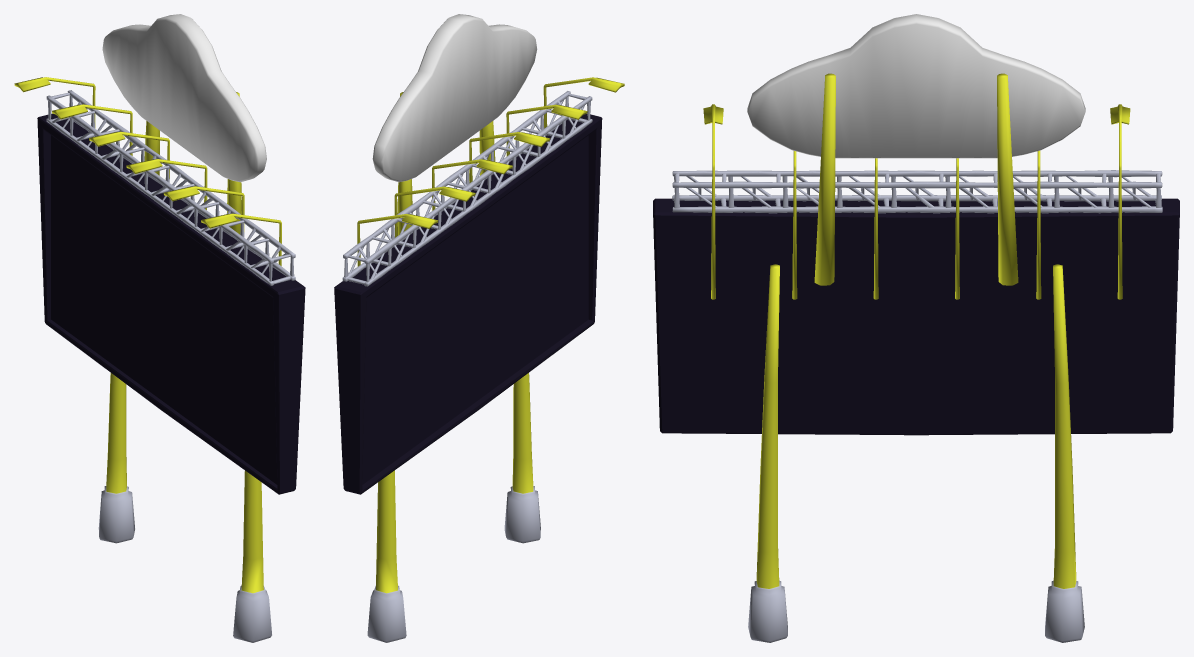
The model's file is Jumbotron.fbx.
3 views of the same model, side by side, from view 1: azimuth 30°, elevation 25°; view 2: azimuth 150°, elevation 25°; view 3: azimuth 270°, elevation 25° (orthographic). The views are drawn at different scales.
Visible parts, largest first — view 1: Jumbotron, Sign_GameTitle, Postsjumbotron, Rafters, Spot Lights, PostsSign; view 2: Jumbotron, Sign_GameTitle, Rafters, Postsjumbotron, Spot Lights, PostsSign; view 3: Jumbotron, Sign_GameTitle, Postsjumbotron, Rafters, PostsSign, Spot Lights.
Boxes of the visible parts, x1=… form: Jumbotron: x1=37, y1=113, x2=305, y2=494; Sign_GameTitle: x1=102, y1=14, x2=266, y2=182; Postsjumbotron: x1=98, y1=373, x2=271, y2=642; Rafters: x1=46, y1=90, x2=295, y2=285; Spot Lights: x1=14, y1=77, x2=281, y2=265; PostsSign: x1=144, y1=92, x2=241, y2=234; Jumbotron: x1=334, y1=114, x2=602, y2=494; Sign_GameTitle: x1=372, y1=14, x2=537, y2=182; Rafters: x1=342, y1=91, x2=592, y2=286; Postsjumbotron: x1=367, y1=373, x2=540, y2=642; Spot Lights: x1=357, y1=77, x2=624, y2=266; PostsSign: x1=397, y1=92, x2=495, y2=235; Jumbotron: x1=653, y1=198, x2=1179, y2=435; Sign_GameTitle: x1=747, y1=14, x2=1085, y2=158; Postsjumbotron: x1=748, y1=264, x2=1084, y2=642; Rafters: x1=672, y1=170, x2=1162, y2=213; PostsSign: x1=814, y1=73, x2=1018, y2=285; Spot Lights: x1=703, y1=104, x2=1130, y2=299.
Size of the model in its own units: 834 by 5016 by 3882.
